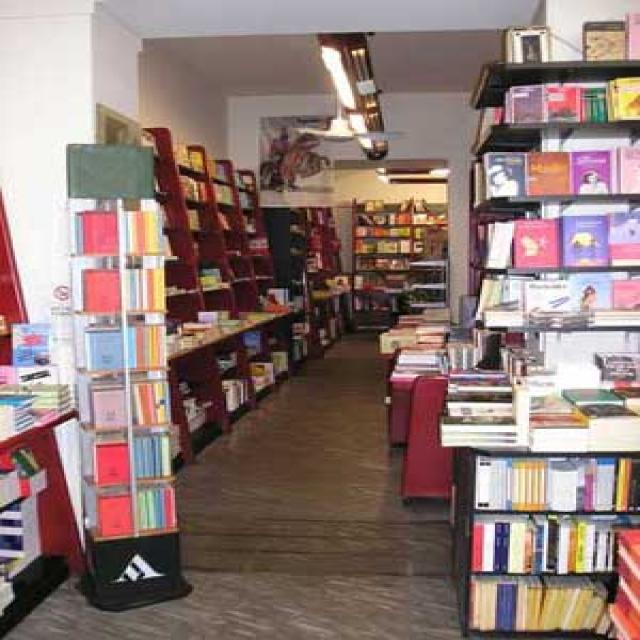book case: (557, 213, 608, 266), (523, 278, 570, 322), (523, 152, 570, 192), (87, 323, 128, 368), (570, 149, 612, 192), (482, 150, 521, 195), (92, 440, 128, 482), (81, 267, 117, 309), (90, 387, 124, 429), (96, 493, 130, 534), (81, 210, 115, 251)
book stand: (66, 141, 192, 610)
bookcase crop: (380, 56, 636, 638), (141, 125, 348, 470), (0, 200, 79, 635), (350, 198, 439, 301)
books crop: (474, 454, 629, 509), (467, 573, 606, 629), (471, 517, 614, 568), (567, 402, 634, 450), (433, 413, 518, 446), (527, 410, 589, 450), (171, 318, 218, 352), (137, 485, 169, 528), (222, 378, 245, 408), (356, 226, 410, 235), (179, 174, 201, 195), (371, 256, 401, 266)
ceiling beam: (100, 0, 544, 94), (333, 158, 446, 174)
floor -X: (0, 299, 506, 638)
lamp crop: (314, 32, 388, 158), (375, 166, 444, 182)
wall clock: (92, 0, 245, 534), (228, 91, 503, 334), (497, 0, 636, 363), (331, 173, 442, 309)
